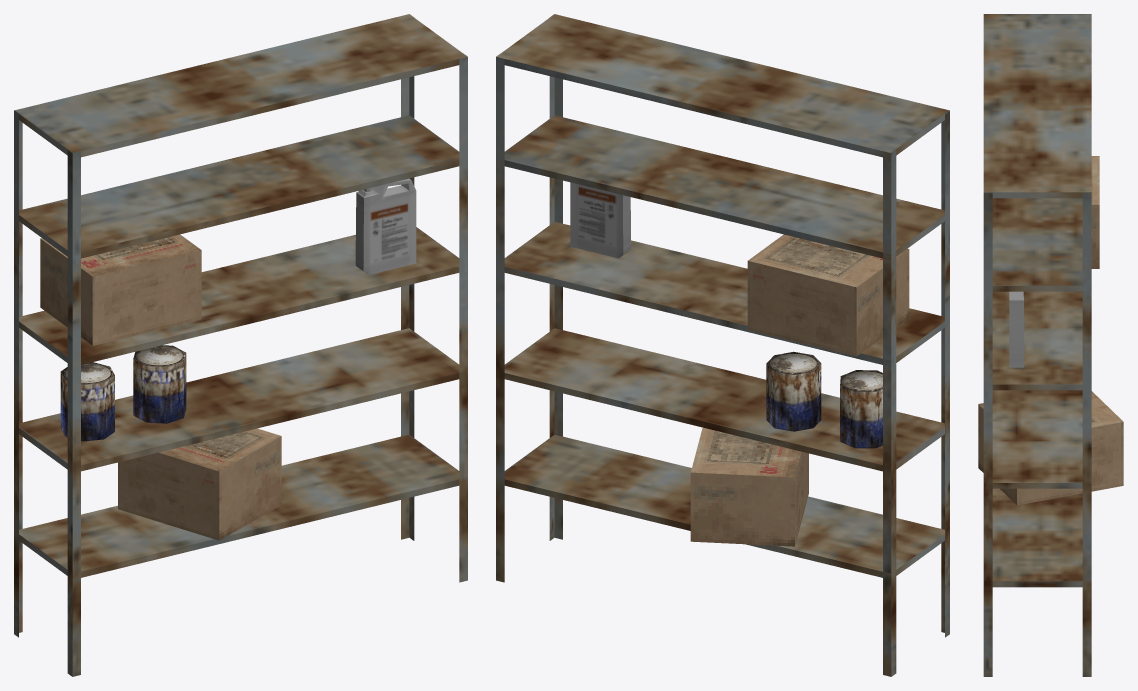
Rendered from stelazh_s_predmetami.fbx.
The picture shows the model from 3 angles, left to right: view 1: azimuth 30°, elevation 25°; view 2: azimuth 150°, elevation 25°; view 3: azimuth 270°, elevation 25°; orthographic projection. The views are drawn at different scales.
Parts seen in each view (by area): view 1: shelf, Cube.005, Cube.007, cleaner.001, Circle.006, Circle.005; view 2: shelf, Cube.007, Cube.005, Circle.006, cleaner.001, Circle.005; view 3: shelf, Cube.005, cleaner.001, Cube.007.
Part boxes in pixels (x1,y1,x2,y2): shelf: (14,14,467,676); Cube.005: (118,428,281,540); Cube.007: (40,234,201,345); cleaner.001: (355,178,416,274); Circle.006: (133,345,186,423); Circle.005: (60,362,114,441); shelf: (496,14,949,676); Cube.007: (747,234,909,356); Cube.005: (690,427,808,546); Circle.006: (766,351,821,431); cleaner.001: (570,182,631,258); Circle.005: (840,370,882,448); shelf: (983,14,1091,676); Cube.005: (978,391,1123,505); cleaner.001: (1009,291,1023,367); Cube.007: (1091,156,1099,268).
Size of the model in its own units: 141 by 178 by 48.58.
4 materials, 4 textured.
